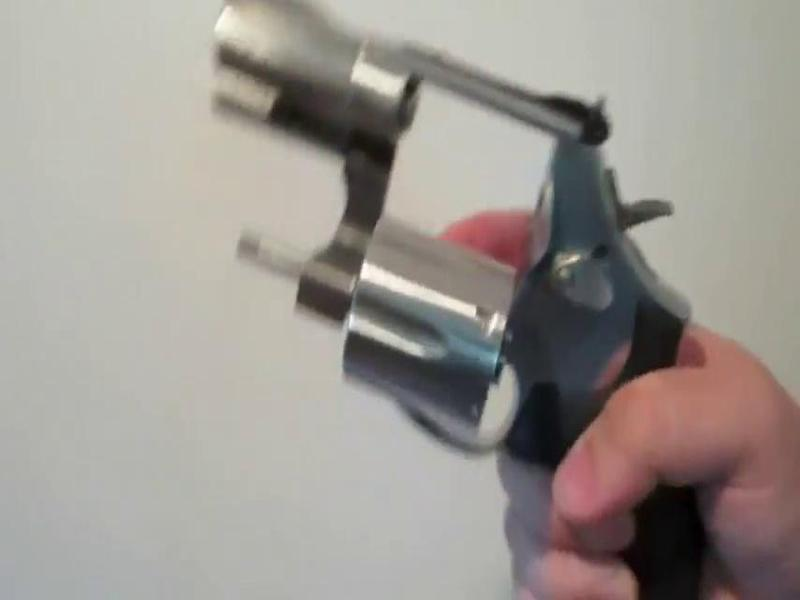Revolver: (188, 1, 720, 578)
